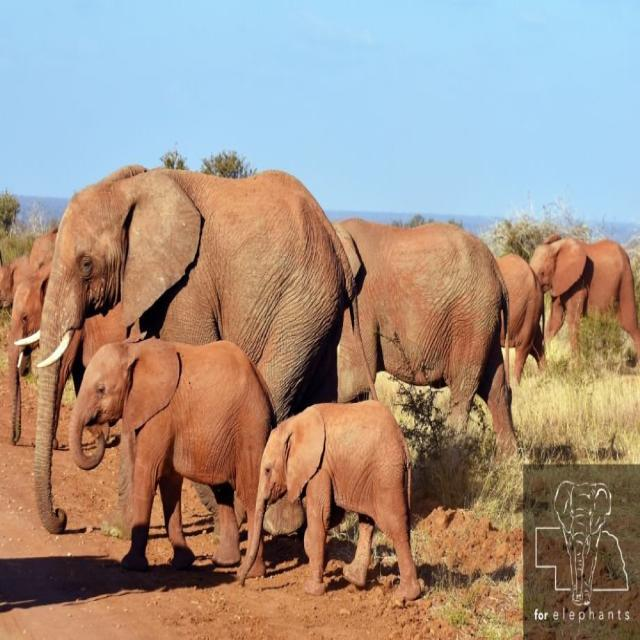Elephant: (29, 162, 368, 568), (67, 334, 278, 574), (331, 215, 518, 461), (235, 398, 422, 604), (530, 233, 640, 369), (495, 252, 546, 386)
